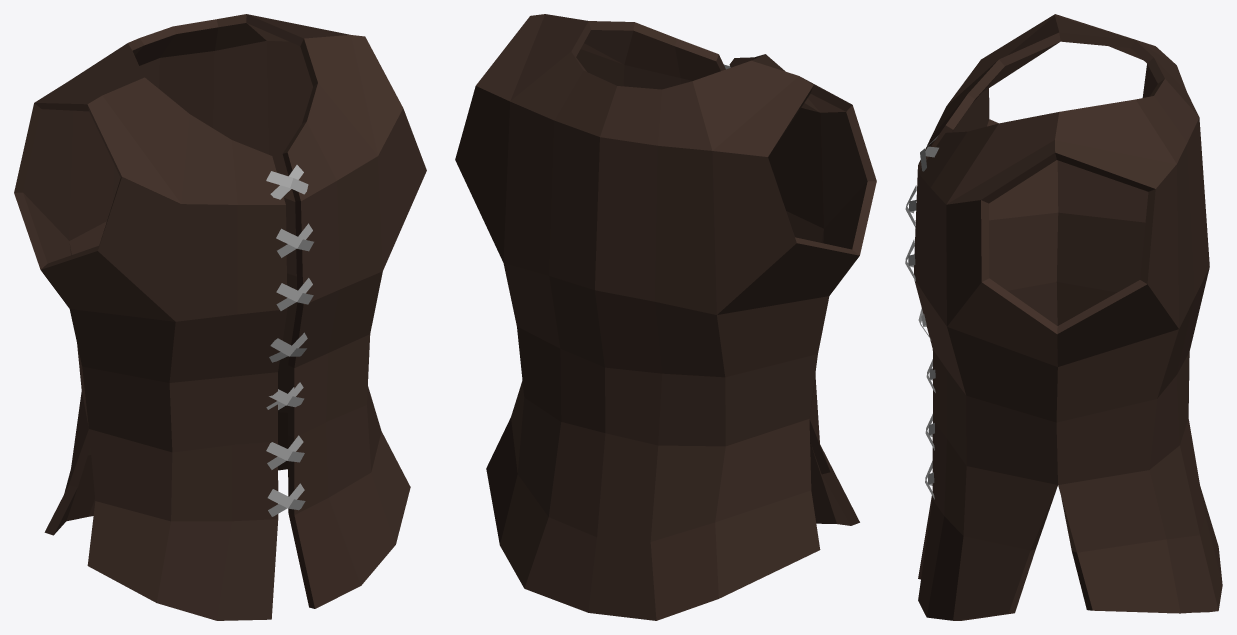
The model's file is FBX_Tunic.fbx.
3 renders of one model, left to right at view 1: azimuth 30°, elevation 25°; view 2: azimuth 150°, elevation 25°; view 3: azimuth 270°, elevation 25°, orthographic. The views are drawn at different scales.
Visible parts, largest first — view 1: tunika, wiazania; view 2: tunika; view 3: tunika, wiazania.
Part boxes in pixels (x1,y1,x2,y2): tunika: (14, 14, 426, 620); wiazania: (266, 165, 313, 516); tunika: (455, 14, 876, 620); tunika: (914, 14, 1222, 620); wiazania: (905, 135, 938, 499).
Size of the model in its own units: 0.3458 by 0.6269 by 0.4762.
